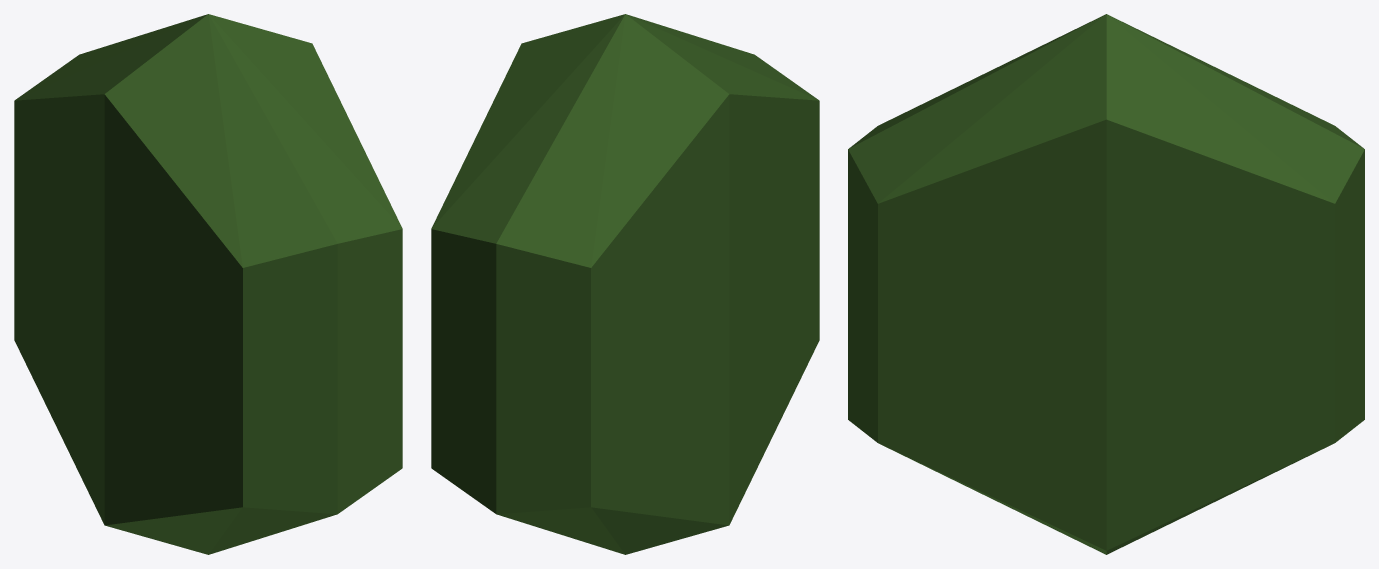
Rendered from GreenGem.obj.
3 views of the same model, side by side, from view 1: azimuth 30°, elevation 25°; view 2: azimuth 150°, elevation 25°; view 3: azimuth 270°, elevation 25° (orthographic).
Visible parts, largest first — view 1: Gem_4; view 2: Gem_4; view 3: Gem_4.
Part boxes in pixels (x1,y1,x2,y2): Gem_4: (14, 14, 402, 554); Gem_4: (431, 14, 819, 554); Gem_4: (848, 14, 1364, 554).
Bounding box in the file's own units: 0.2645 × 0.6579 × 0.5697.
Materials: 1 (1 with a texture image).
